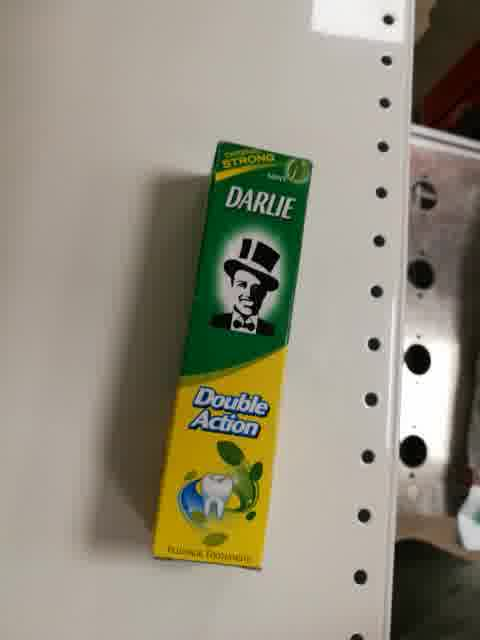toothpaste: (150, 134, 317, 572)
